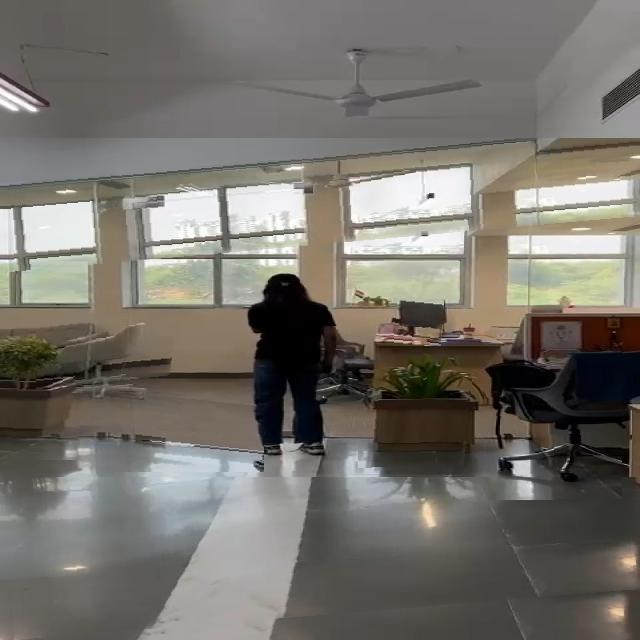floor: (0, 477, 640, 640), (104, 390, 264, 472)
furniture: (481, 348, 622, 500), (0, 334, 89, 460), (358, 372, 473, 468), (36, 313, 178, 390), (393, 288, 445, 346)
wall: (0, 138, 640, 272)
